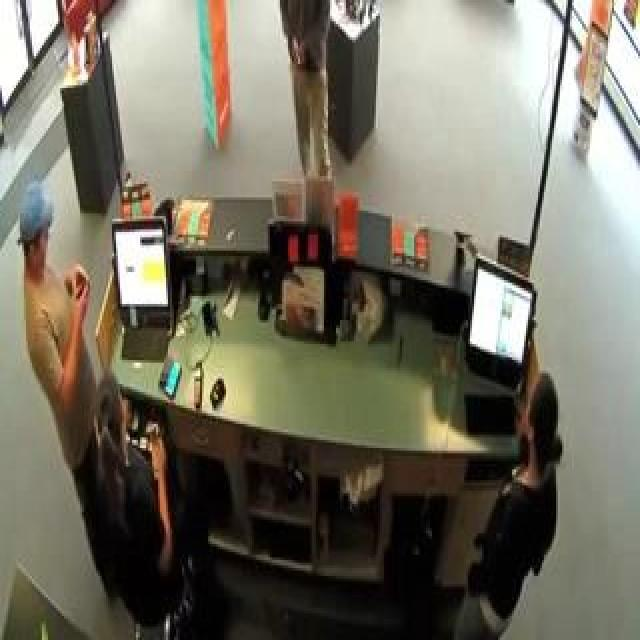low_con: (19, 186, 54, 282)
no_con: (518, 368, 566, 474), (89, 372, 138, 473)
